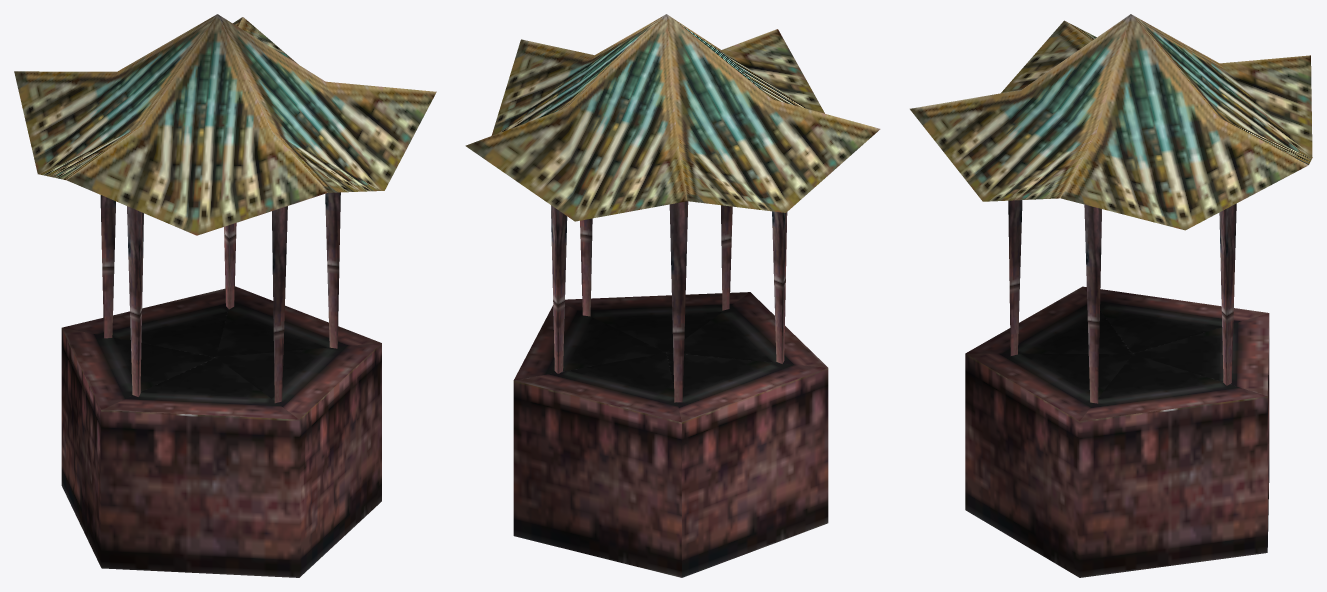
File: USA - Prop - Garden Well - PAChWell.glb
The picture shows the model from 3 angles, left to right: view 1: azimuth 30°, elevation 25°; view 2: azimuth 150°, elevation 25°; view 3: azimuth 270°, elevation 25°; orthographic projection.
Parts seen in each view (by area): view 1: PACHWELL; view 2: PACHWELL; view 3: PACHWELL.
Part boxes in pixels (x1,y1,x2,y2): PACHWELL: (14,14,436,577); PACHWELL: (465,14,880,577); PACHWELL: (910,14,1312,577).
Size of the model in its own units: 13.02 by 17.15 by 12.46.
1 material, 1 textured.
